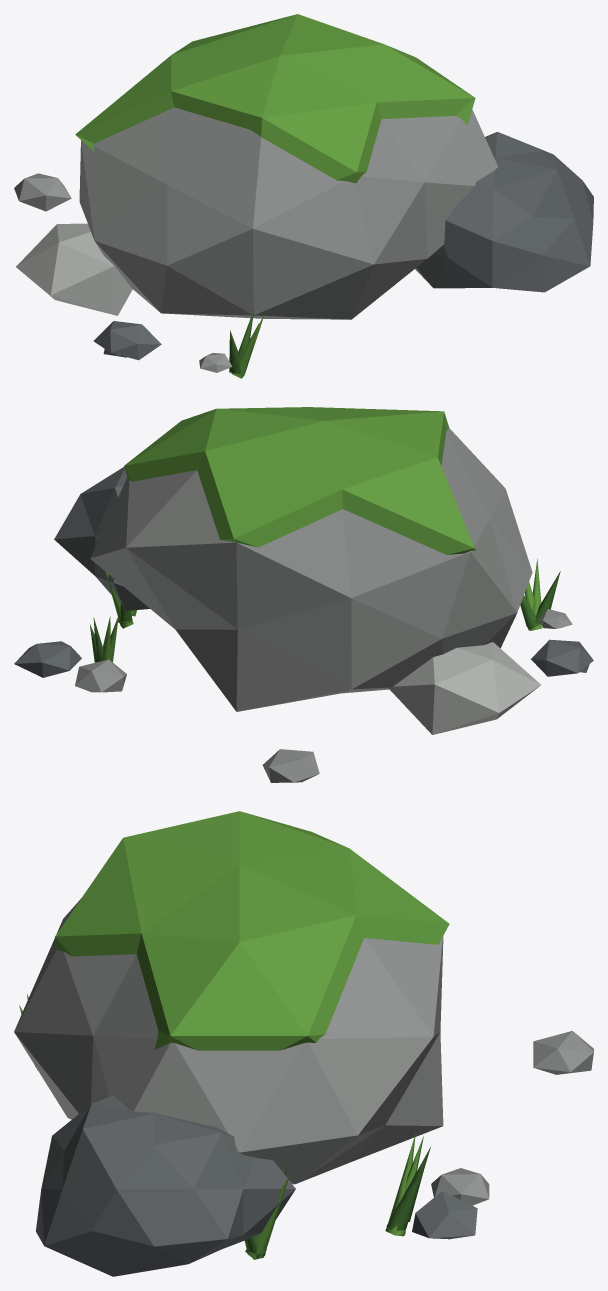
File: RockMedium.glb
3 views of the same model, one above another, from view 1: azimuth 30°, elevation 25°; view 2: azimuth 150°, elevation 25°; view 3: azimuth 270°, elevation 25° (orthographic). The views are drawn at different scales.
Visible parts, largest first — view 1: Body; view 2: Body; view 3: Body.
Boxes of the visible parts, bbox=[...] form: Body: bbox=[14, 14, 593, 378]; Body: bbox=[14, 407, 593, 782]; Body: bbox=[14, 811, 593, 1276].
Bounding box in the file's own units: 4.84 × 2.21 × 4.07.
1 material, 1 textured.
